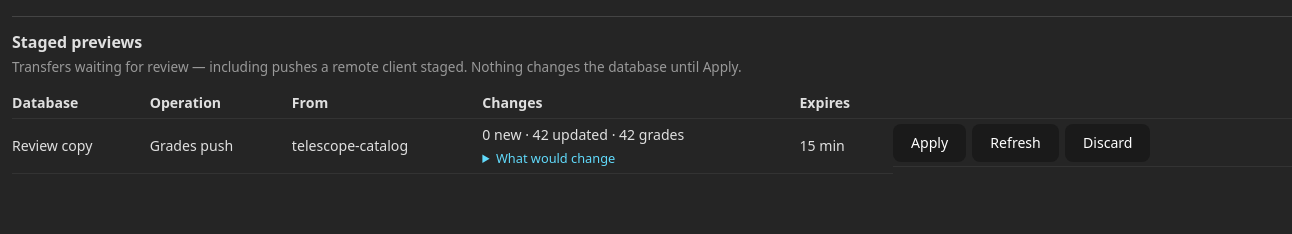
RemoteSyncPreviews › lists staged previews with their source and counts
Expected: the text "Grades push" is shown, [150,118,292,173]
Expected: the text "telescope-catalog" is shown, [292,118,482,173]
Click the heading "What would change". click: [556, 158]
box: [496,149,615,167]
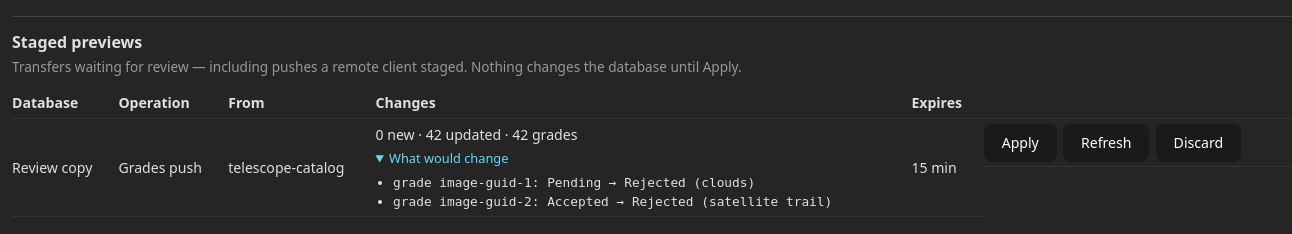
Now the list item "grade image-guid-1: Pending → Rejected (clouds)" is shown, box [393,175,755,190]
